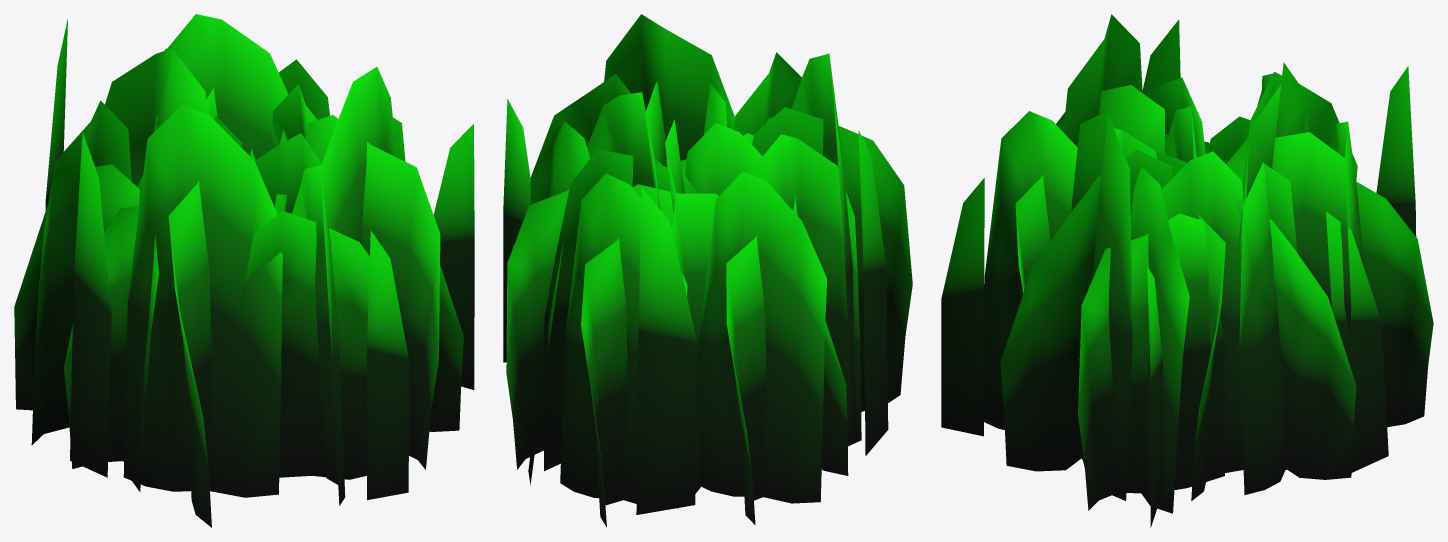
The model's file is Grass 2.FBX.
3 views of the same model, side by side, from view 1: azimuth 30°, elevation 25°; view 2: azimuth 150°, elevation 25°; view 3: azimuth 270°, elevation 25° (orthographic). The views are drawn at different scales.
Visible parts, largest first — view 1: SM_FieldGrass_01_LOD0; view 2: SM_FieldGrass_01_LOD0; view 3: SM_FieldGrass_01_LOD0.
Boxes of the visible parts, <box> form: SM_FieldGrass_01_LOD0: <box>14,14,474,527</box>; SM_FieldGrass_01_LOD0: <box>503,14,912,527</box>; SM_FieldGrass_01_LOD0: <box>941,14,1433,527</box>.
Size of what is drawn, in the model's own units: 1062436 by 1021427 by 1204671.
